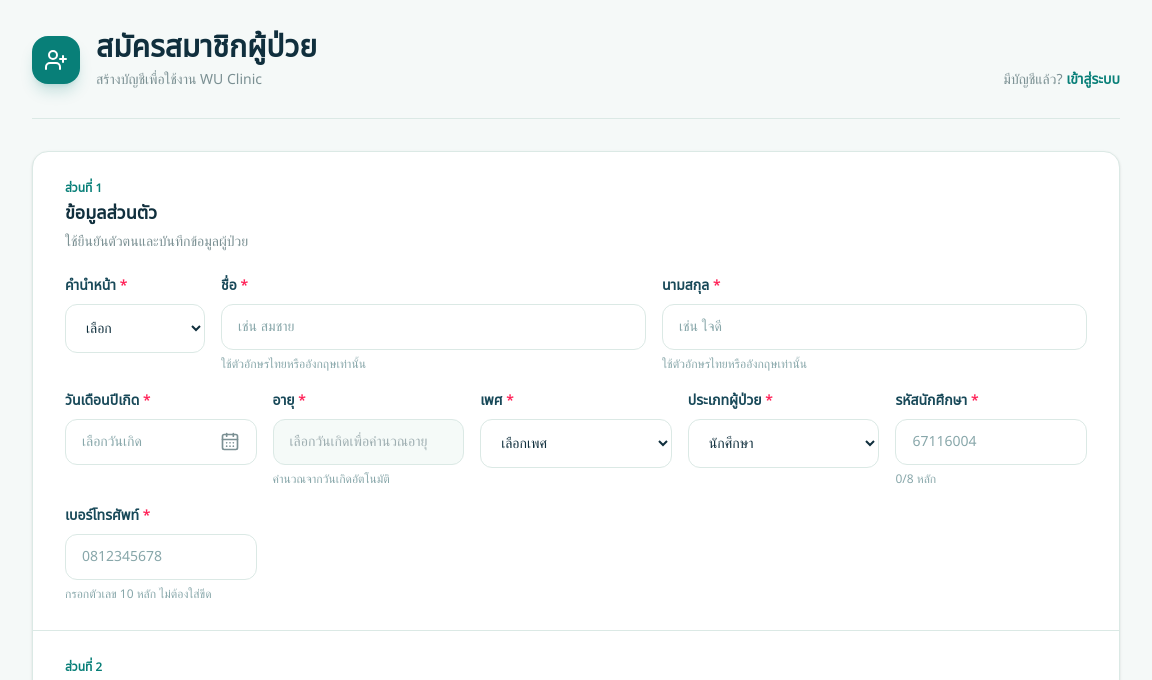
Test case: registration validation › keeps IDs and phone numbers numeric with required lengths
Type "67A11600499" into the field labelled "รหัสนักศึกษา *" at x=991, y=442, box x1=895 y1=419 x2=1087 y2=465
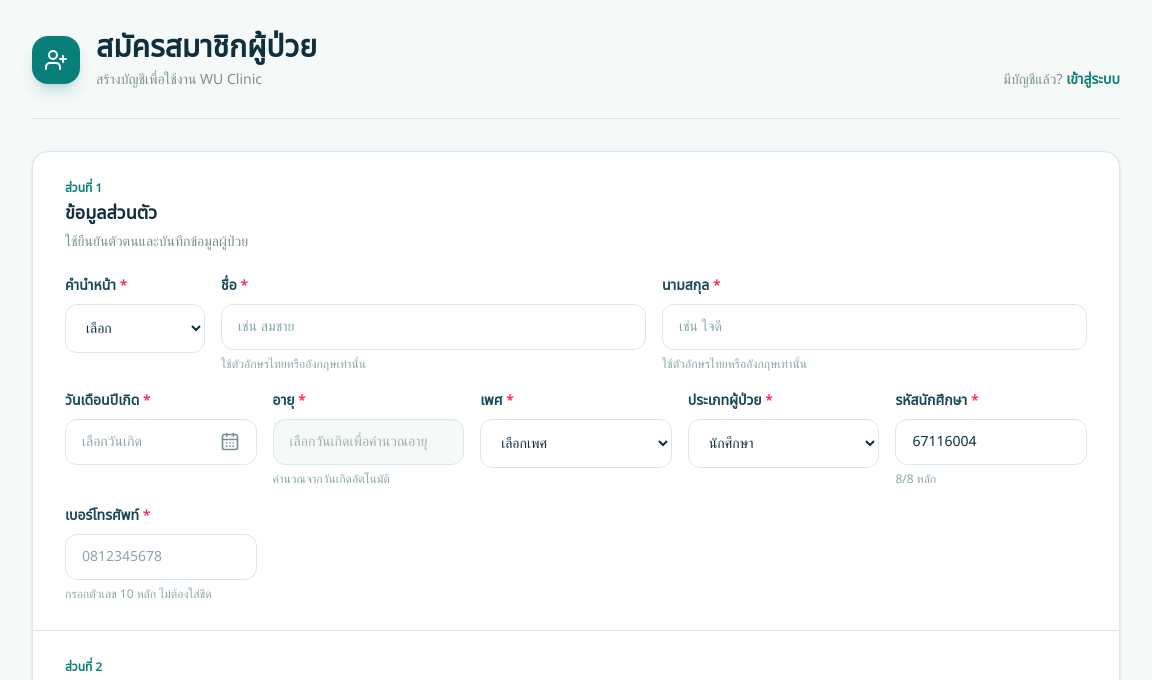
Type "08X123456789" into the field labelled "เบอร์โทรศัพท์ *" at x=161, y=557, box x1=65 y1=534 x2=257 y2=580
(page scrolled)
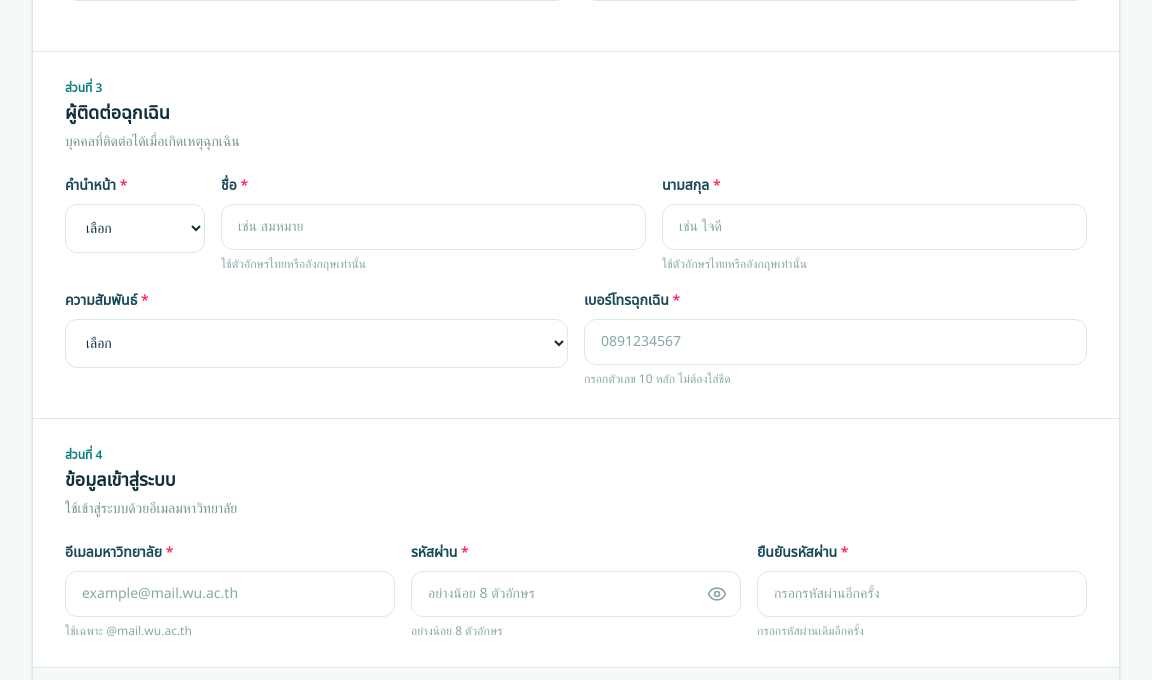
Type "08X912345678" into the field labelled "เบอร์โทรฉุกเฉิน *" at x=836, y=342, box x1=584 y1=319 x2=1087 y2=365
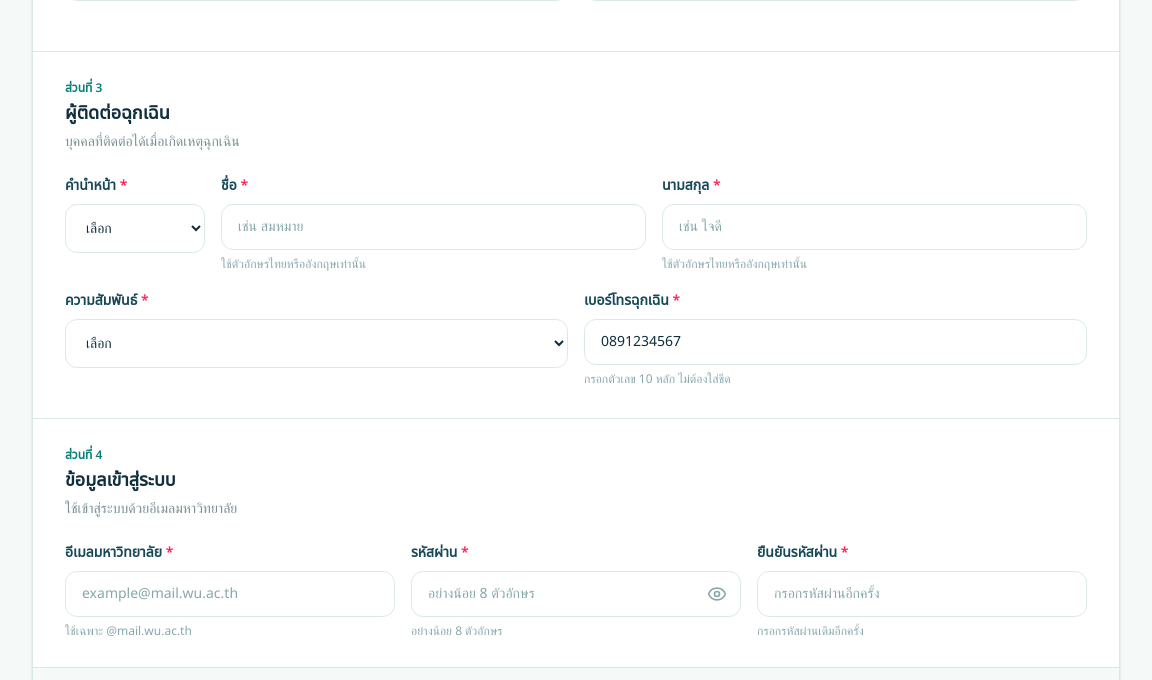
Now the field labelled "เบอร์โทรฉุกเฉิน *" holds "0891234567", box x1=584 y1=319 x2=1087 y2=365
